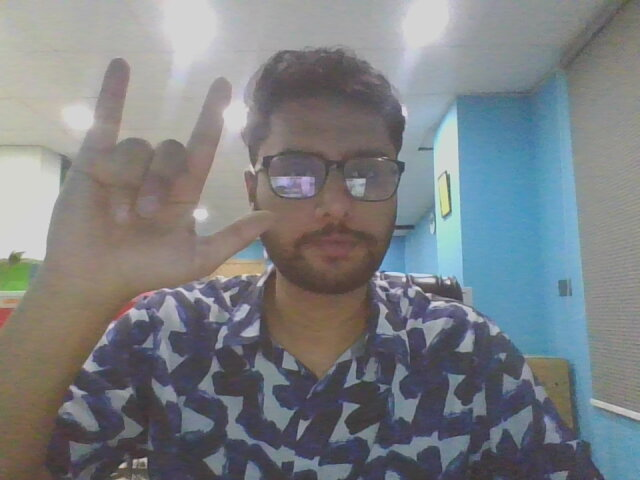iloveyou: (31, 55, 276, 310)
